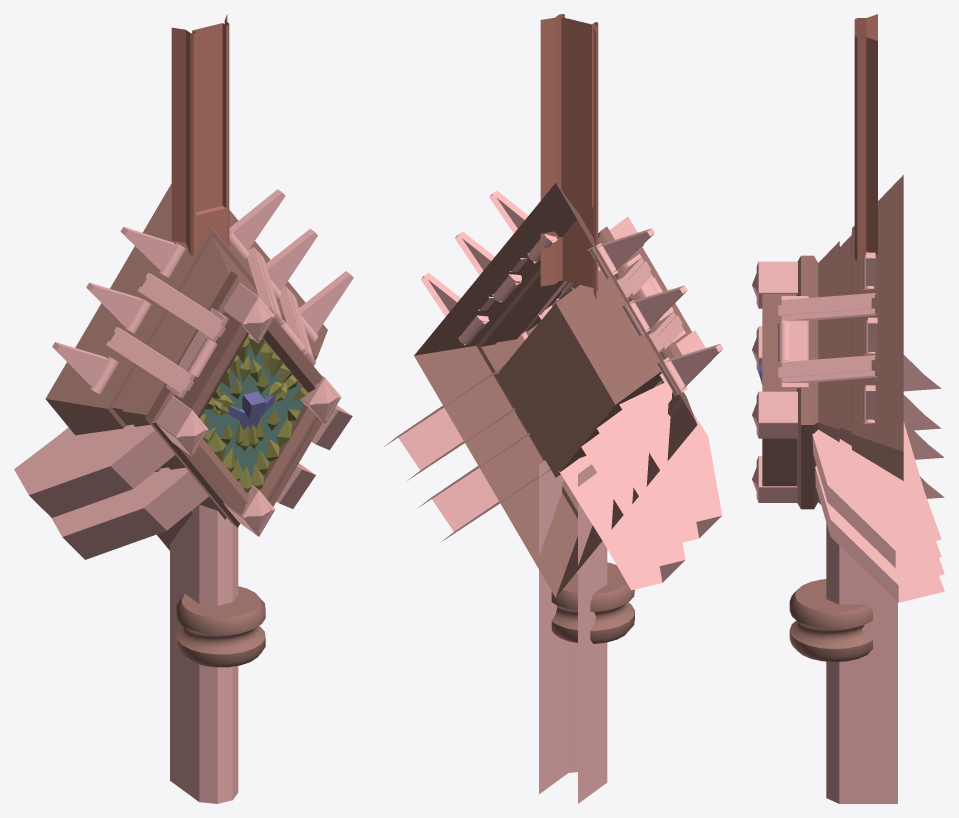
Rendered from Fbx_Boss_Char_Wall.fbx.
3 renders of one model, left to right at view 1: azimuth 30°, elevation 25°; view 2: azimuth 150°, elevation 25°; view 3: azimuth 270°, elevation 25°, orthographic.
Visible parts, largest first — view 1: Base, Pole_Low, Low_Support_2, Low_Support_1, Pole_High_Mid, Top_Bar_Supports, Laser_Go_Spin, Pole_High_Base, Cry_BackWall, Dia_Vert, Dia_Hor, pCube117 (+3 smaller); view 2: Base, Pole_Low, Low_Support_2, Low_Support_1, Pole_High_Mid, Pole_High_Base, Laser_Go_Spin, Top_Bar_Supports, pCube117, pCube119, pCube118, pCylinder3 (+2 smaller); view 3: Base, Pole_Low, Low_Support_2, Top_Bar_Supports, Laser_Go_Spin, Low_Support_1, Pole_High_Mid, Dia_Vert, Dia_Hor, Pole_High_Base, Hindge.
Part boxes in pixels (bbox=[...]): Base: bbox=[45, 183, 327, 550]; Pole_Low: bbox=[170, 504, 238, 803]; Low_Support_2: bbox=[14, 405, 352, 517]; Low_Support_1: bbox=[51, 463, 315, 559]; Pole_High_Mid: bbox=[171, 14, 229, 155]; Top_Bar_Supports: bbox=[106, 247, 316, 397]; Laser_Go_Spin: bbox=[176, 586, 265, 667]; Pole_High_Base: bbox=[171, 145, 229, 255]; Cry_BackWall: bbox=[202, 336, 303, 479]; Dia_Vert: bbox=[223, 283, 274, 536]; Dia_Hor: bbox=[156, 374, 341, 456]; pCube117: bbox=[52, 271, 353, 387]; Base: bbox=[414, 183, 697, 597]; Pole_Low: bbox=[539, 460, 607, 803]; Low_Support_2: bbox=[384, 366, 722, 545]; Low_Support_1: bbox=[418, 433, 685, 590]; Pole_High_Mid: bbox=[540, 14, 598, 154]; Pole_High_Base: bbox=[540, 136, 598, 299]; Laser_Go_Spin: bbox=[551, 562, 634, 643]; Top_Bar_Supports: bbox=[478, 254, 685, 353]; pCube117: bbox=[421, 272, 723, 389]; pCube119: bbox=[455, 231, 687, 334]; pCube118: bbox=[489, 190, 654, 280]; pCylinder3: bbox=[458, 315, 686, 395]; Base: bbox=[762, 175, 903, 509]; Pole_Low: bbox=[826, 523, 897, 803]; Low_Support_2: bbox=[812, 355, 941, 568]; Top_Bar_Supports: bbox=[778, 261, 878, 388]; Laser_Go_Spin: bbox=[789, 579, 872, 662]; Low_Support_1: bbox=[815, 421, 944, 602]; Pole_High_Mid: bbox=[854, 14, 877, 163]; Dia_Vert: bbox=[752, 261, 797, 502]; Dia_Hor: bbox=[752, 326, 797, 438]; Pole_High_Base: bbox=[854, 159, 877, 260]; Hindge: bbox=[777, 322, 789, 362].
Bounding box in the file's own units: 835 × 1878 × 428.
